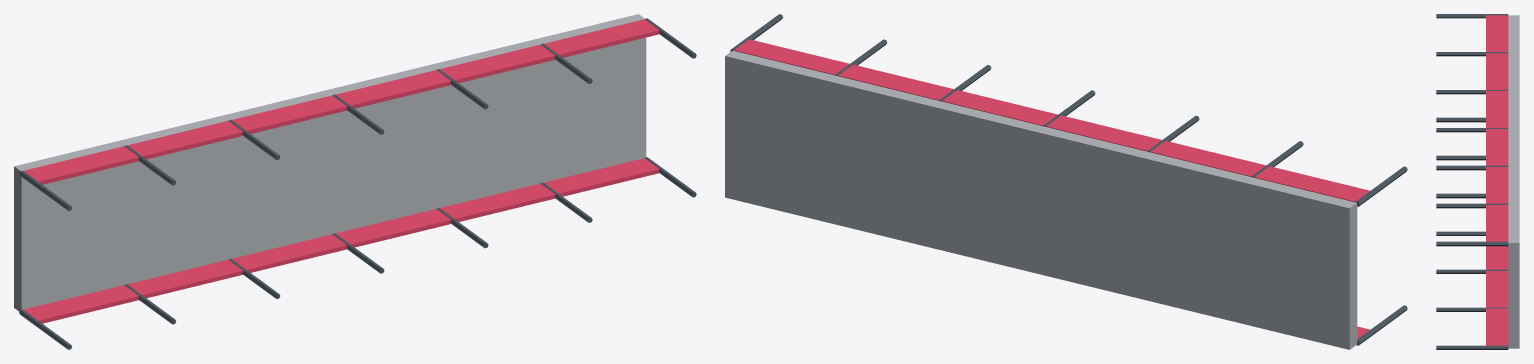
Rendered from bridge.glb.
3 views of the same model, side by side, from view 1: azimuth 30°, elevation 25°; view 2: azimuth 150°, elevation 25°; view 3: azimuth 270°, elevation 25° (orthographic). The views are drawn at different scales.
Visible parts, largest first — view 1: deck, rail_l, rail_r; view 2: deck, rail_l; view 3: rail_l, deck, rail_r, upright_12, upright_13, upright_8, upright_10, upright_1, upright_3, upright_5, upright_0, upright_2 (+5 smaller).
Part boxes in pixels (<box>): deck: <box>14,14,646,311</box>; rail_l: <box>23,19,659,184</box>; rail_r: <box>23,158,659,323</box>; deck: <box>725,50,1357,349</box>; rail_l: <box>732,39,1370,202</box>; rail_l: <box>1486,15,1508,241</box>; deck: <box>1508,15,1519,348</box>; rail_r: <box>1486,246,1508,345</box>; upright_12: <box>1436,241,1508,246</box>; upright_13: <box>1436,345,1508,349</box>; upright_8: <box>1436,165,1508,170</box>; upright_10: <box>1436,203,1508,208</box>; upright_1: <box>1436,117,1485,122</box>; upright_3: <box>1436,155,1485,160</box>; upright_5: <box>1436,193,1485,198</box>; upright_0: <box>1436,14,1508,18</box>; upright_2: <box>1436,52,1508,56</box>.
Bounding box in the file's own units: 24.2 × 5.27 × 3.7.
